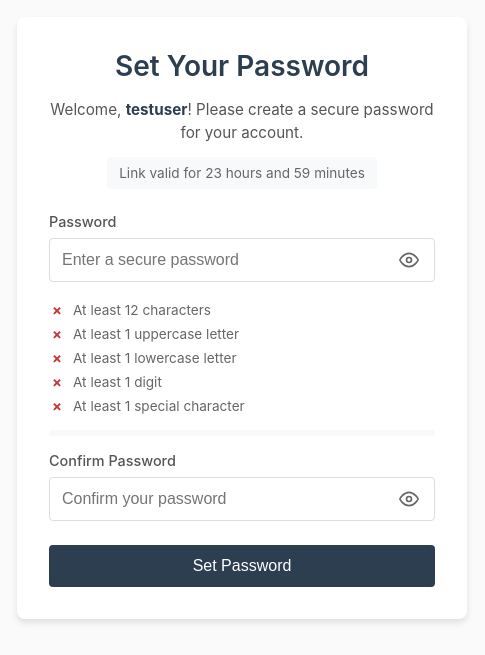
SetPasswordPage › Form validation › shows error when passwords do not match
Type "ValidPass123!" into the password field labelled "Password" at {"x": 242, "y": 260}, box [49,238,435,282]
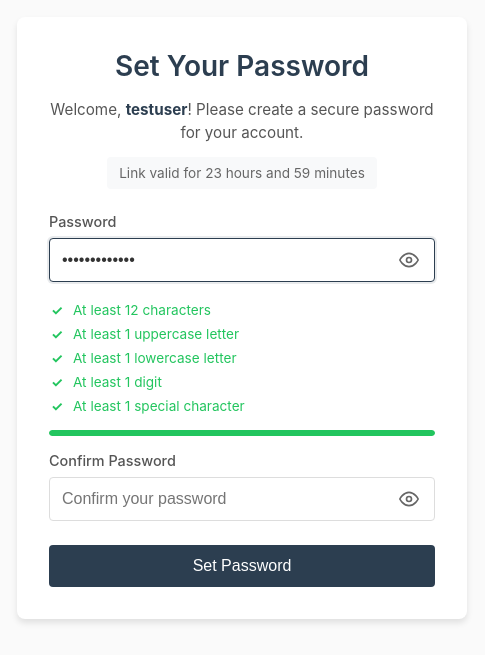
Type "DifferentPass123!" into the password field labelled "Confirm Password" at {"x": 242, "y": 499}, box [49,477,435,521]
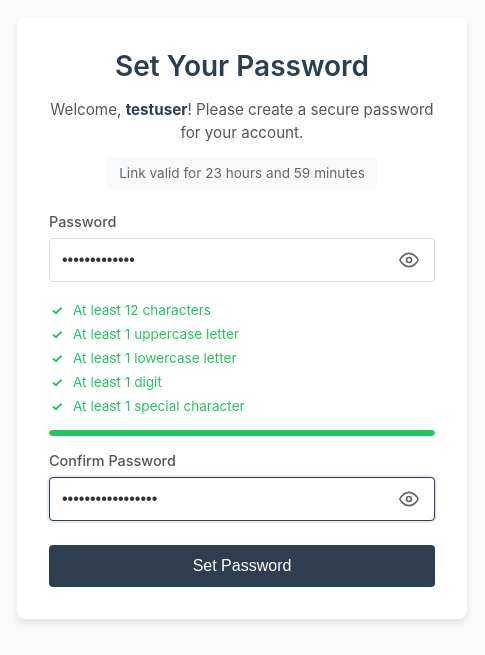
Click the button "Set Password" at {"x": 242, "y": 566}, box [49,545,435,587]
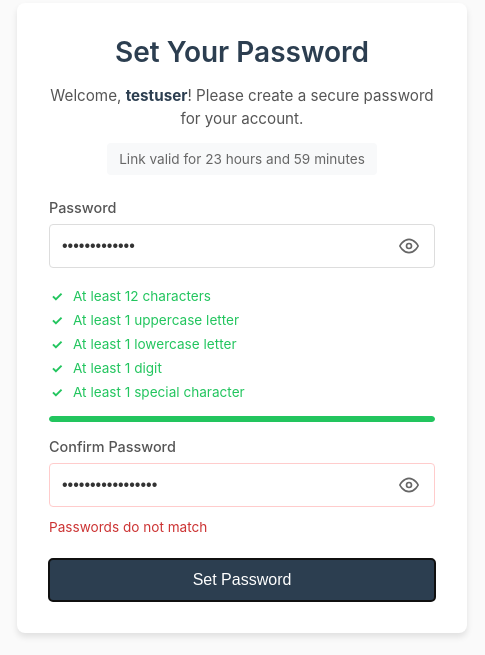
Check: the text "Passwords do not match" is shown, box [49,519,207,535]
